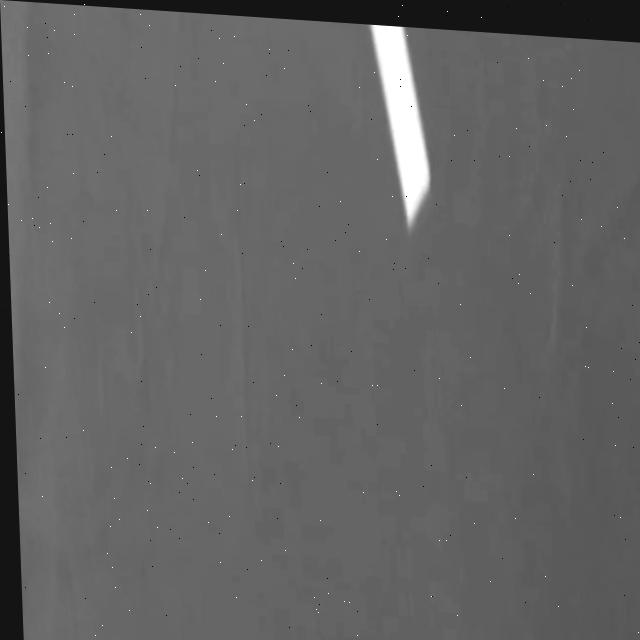center: (369, 25, 429, 230)
